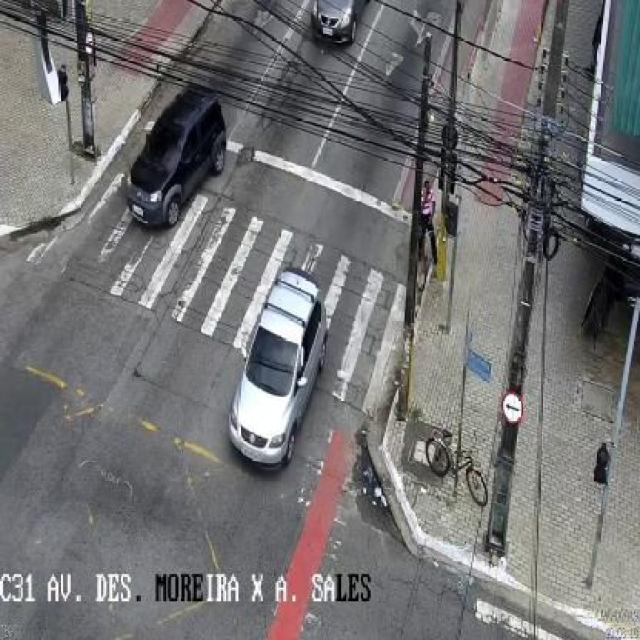Car: (102, 65, 260, 251), (222, 271, 348, 475), (288, 0, 379, 54)
Cycle: (398, 425, 510, 519)
